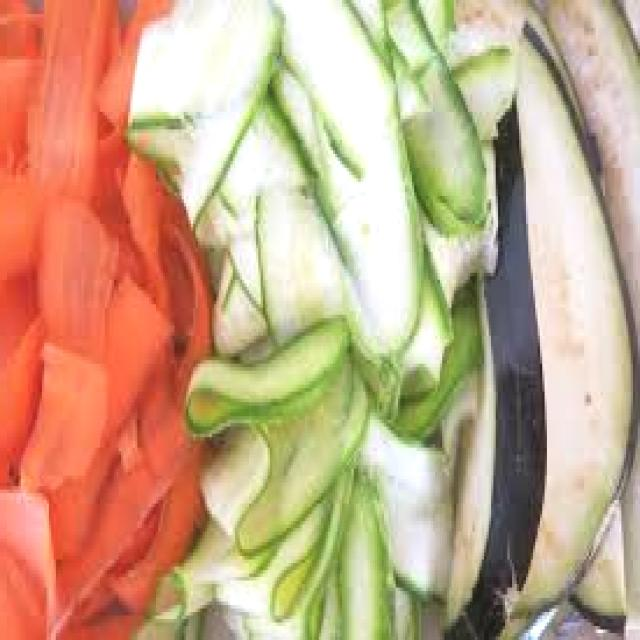organic: (43, 47, 605, 576)
